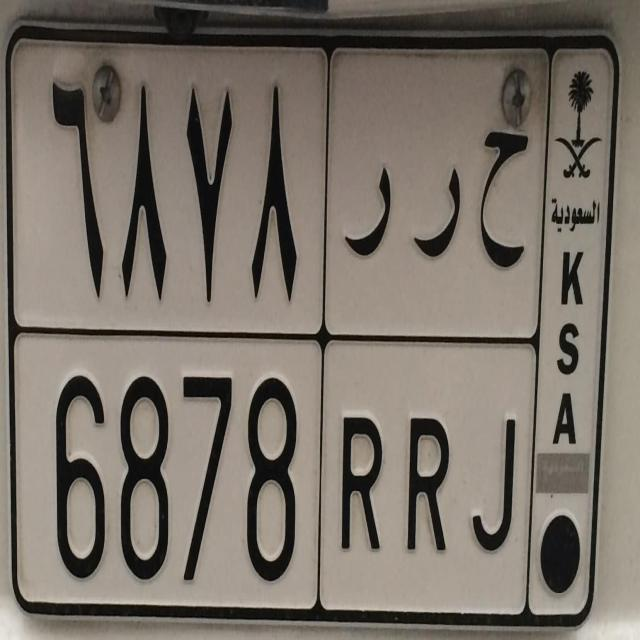license_plate: (9, 319, 533, 620)
